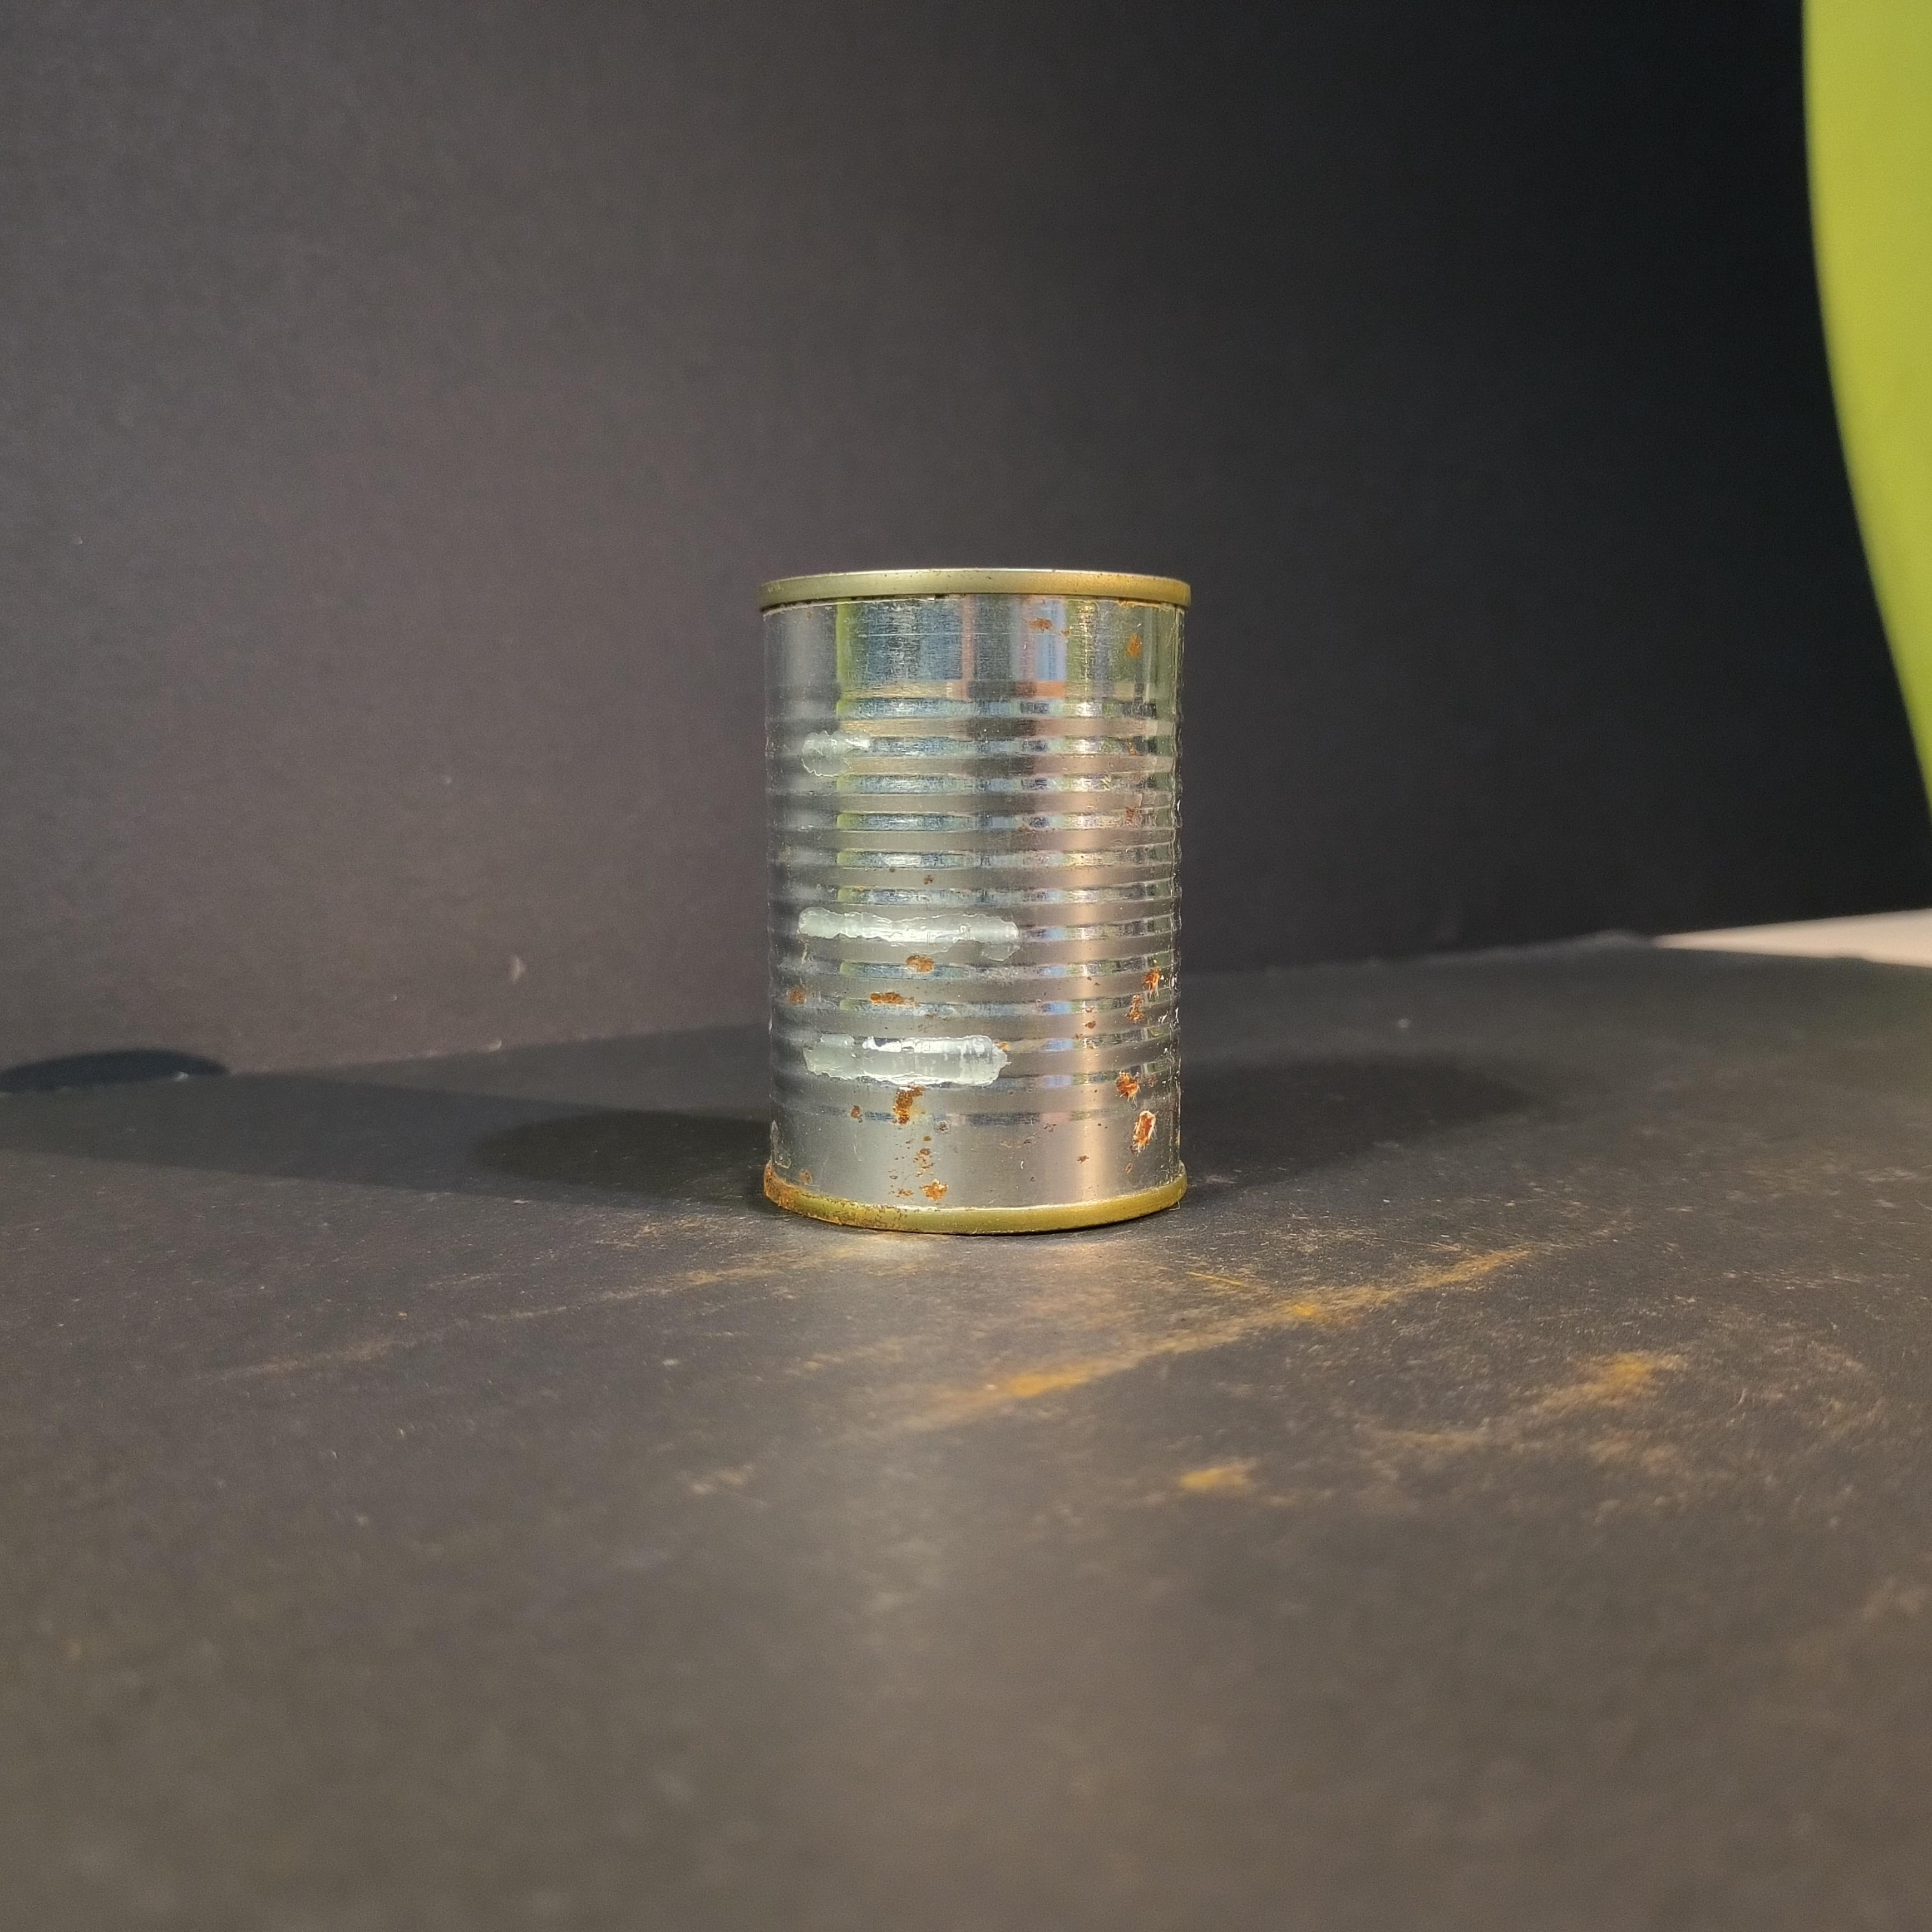Rusted: (752, 545, 1219, 1254)
